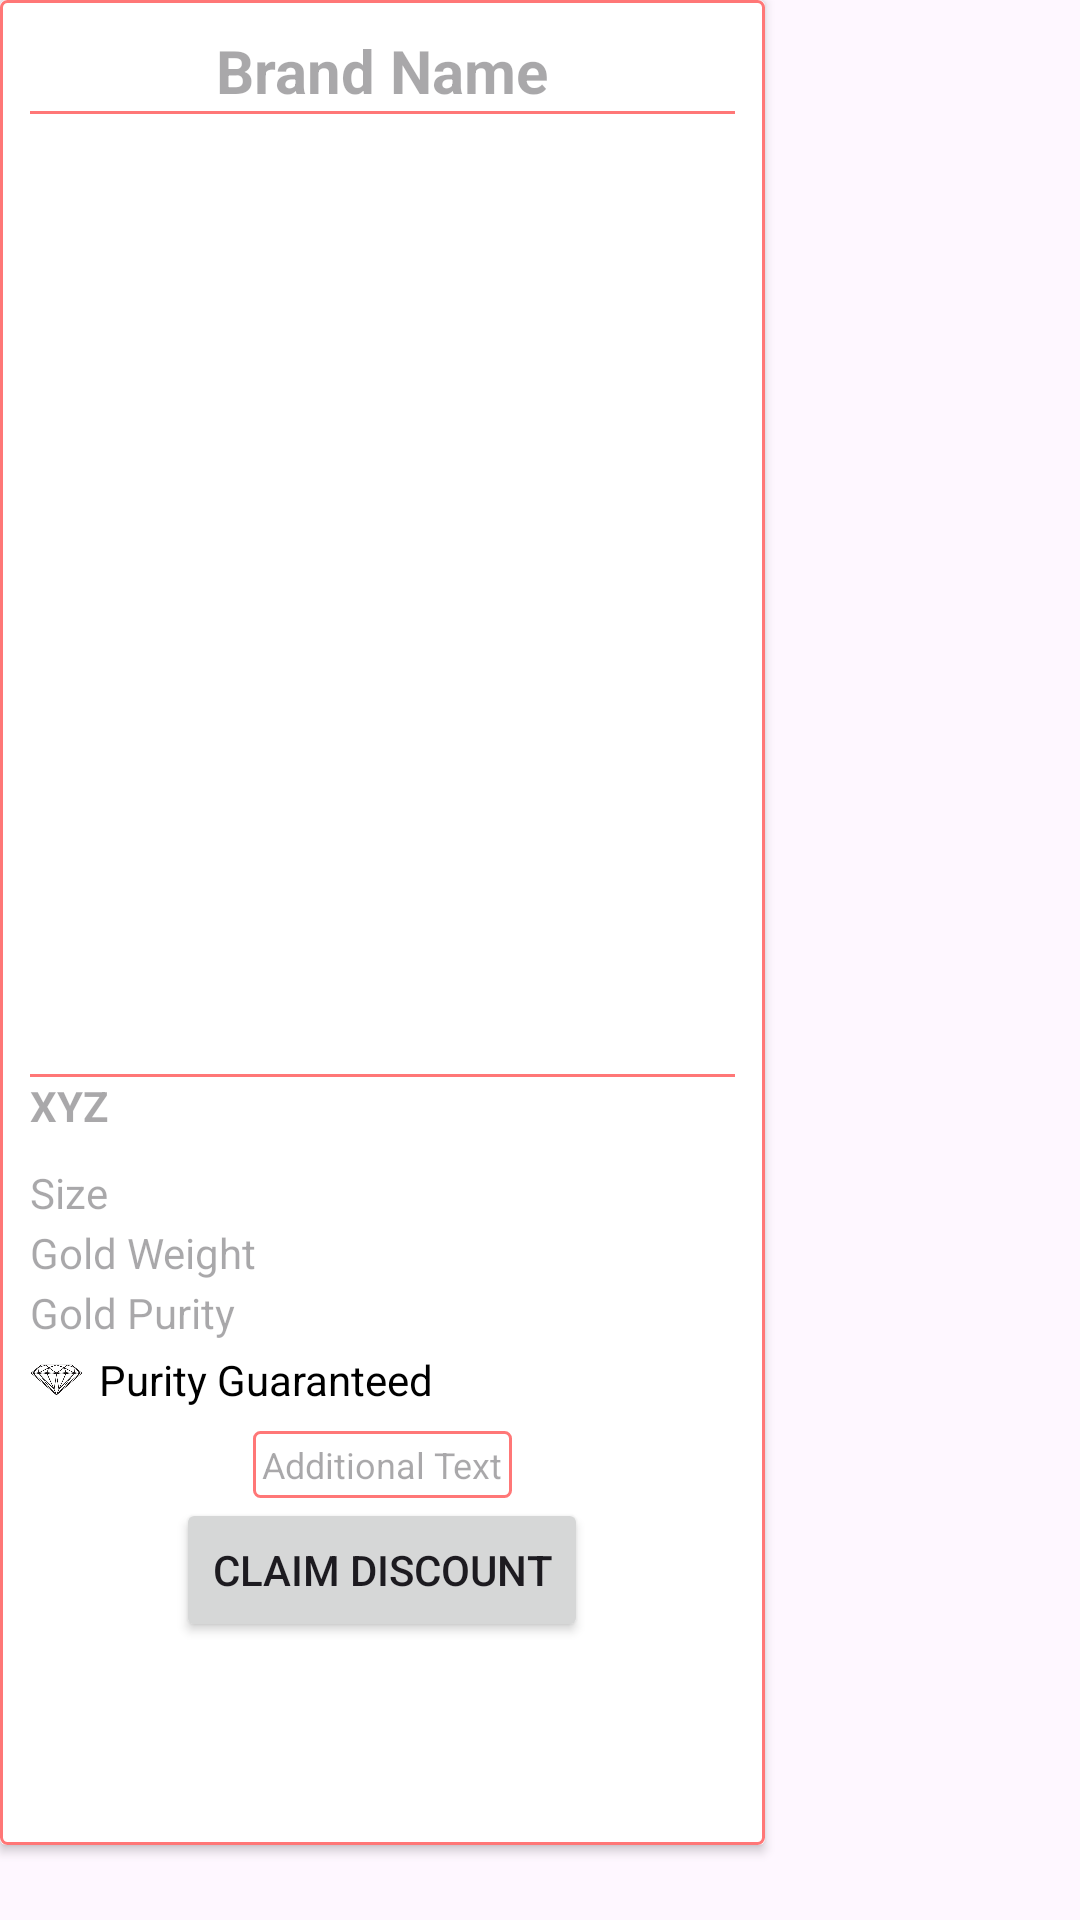

Named icons in this screenshot (1080x1920) and their centers, (x,y):
diamond: (56,1380)
